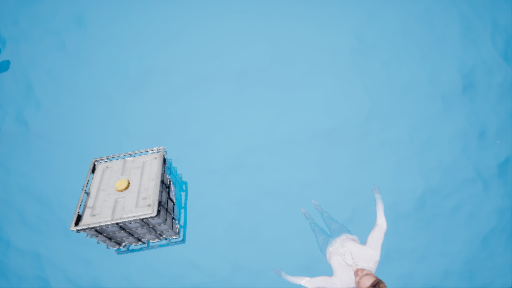person: (278, 179, 404, 288)
